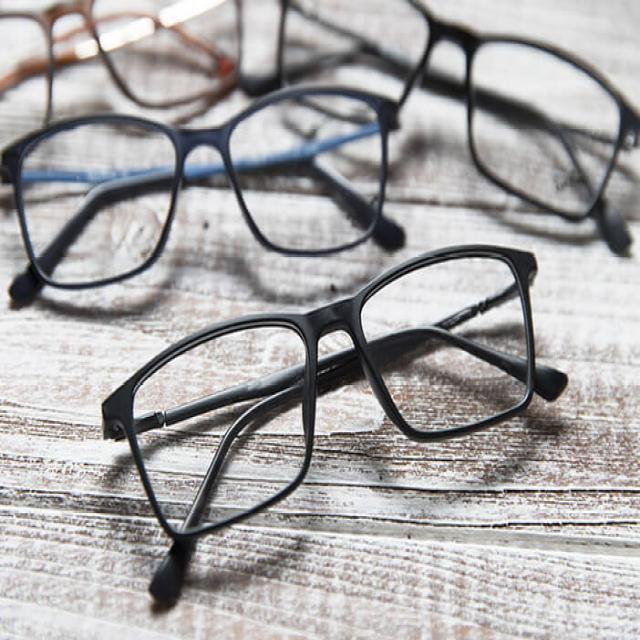Glasses: (92, 241, 574, 622), (0, 77, 418, 319), (271, 0, 638, 264), (0, 0, 249, 114)
